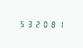eight: (50, 20, 57, 28)
five: (17, 19, 24, 27)
one: (58, 20, 65, 28)
three: (25, 19, 32, 27)
two: (34, 19, 41, 27)
zero: (42, 20, 49, 28)
